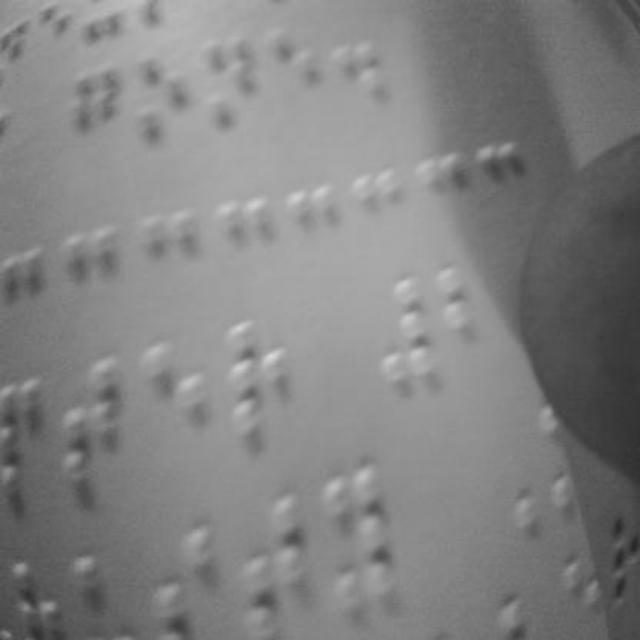braiile: (322, 463, 400, 607), (55, 354, 128, 496), (244, 490, 312, 640), (438, 260, 508, 400), (143, 328, 210, 468), (222, 316, 290, 446), (130, 41, 188, 153), (70, 56, 126, 170), (199, 27, 257, 133), (1, 360, 44, 492), (270, 22, 324, 124)
